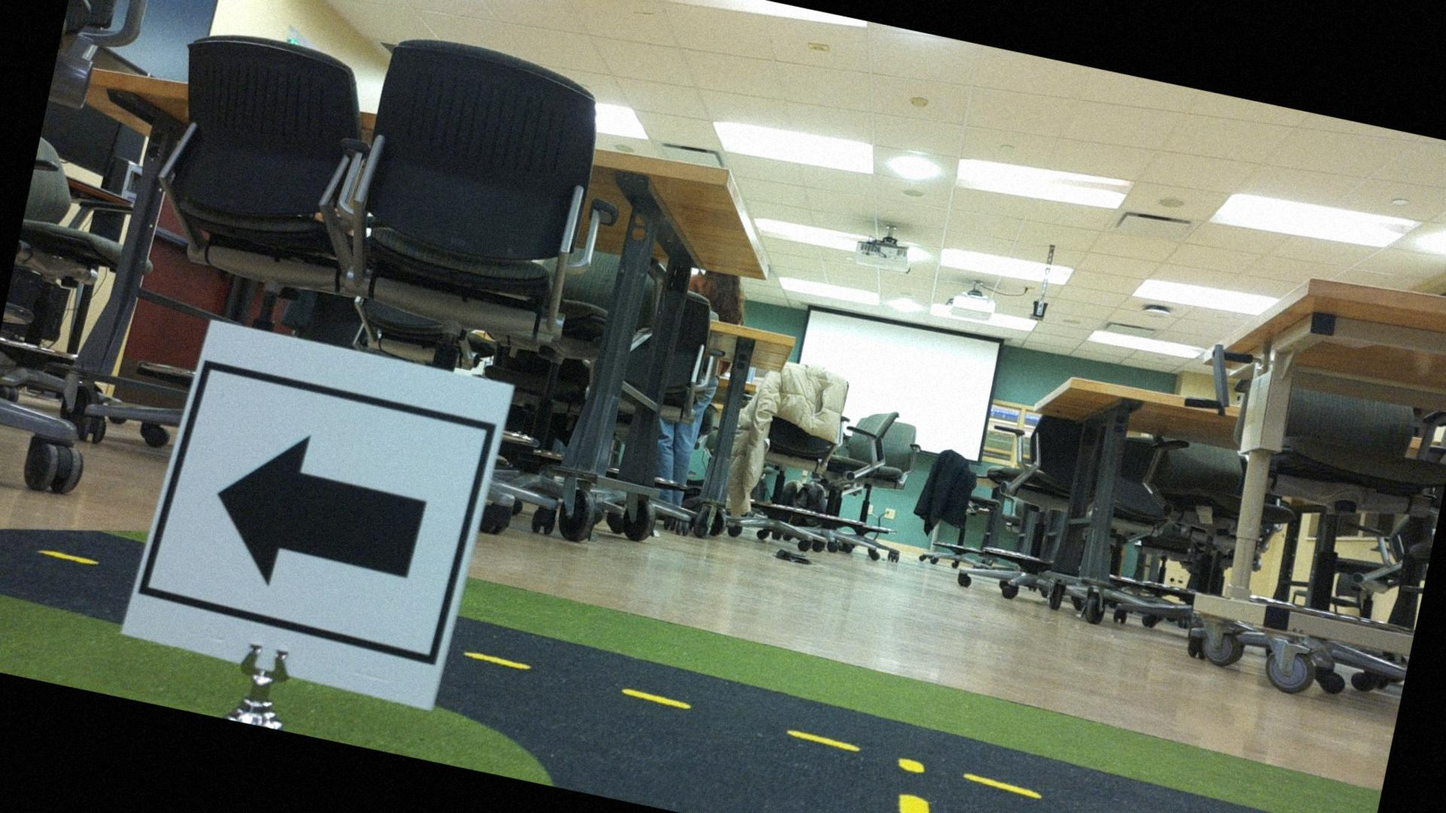turnleft: (144, 324, 503, 698)
yellowline: (463, 648, 1246, 812)
